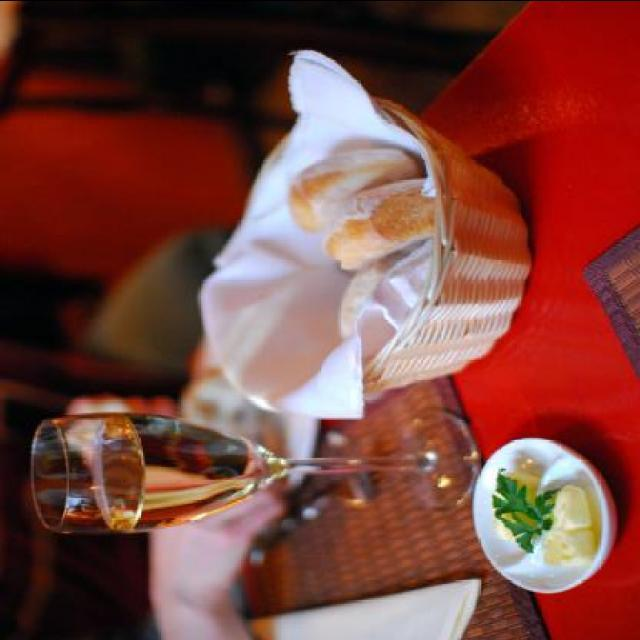Bread: (286, 146, 428, 234), (324, 175, 432, 271), (339, 254, 412, 343)
